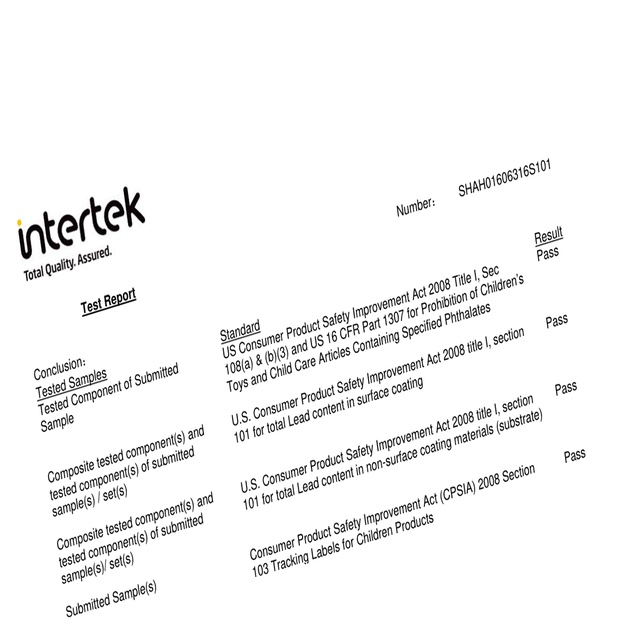intertek: (17, 185, 148, 260)
